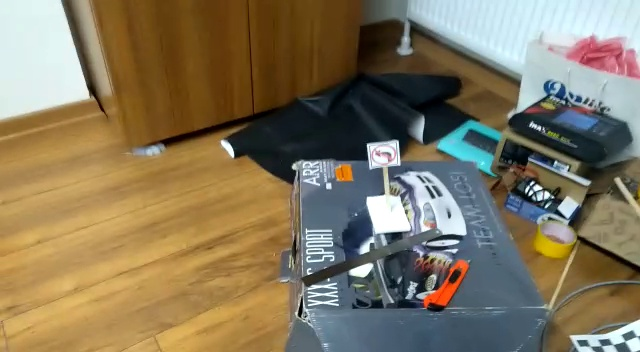sola_donulmez: (370, 141, 398, 166)
